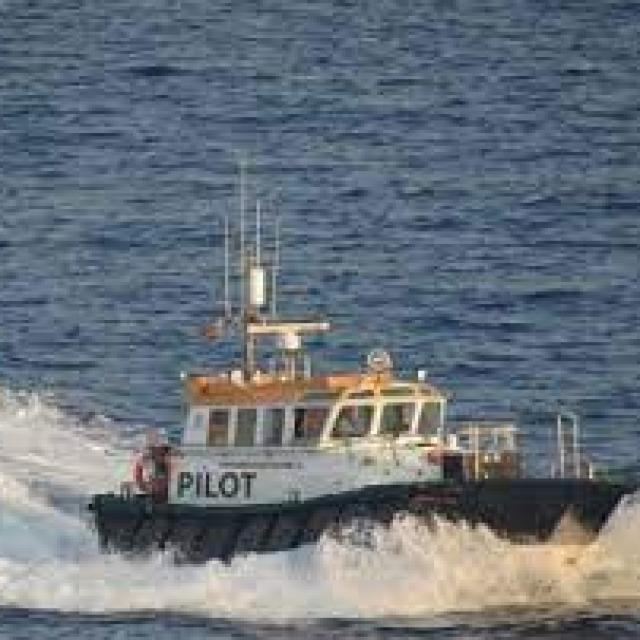houseboat: (89, 192, 622, 575)
